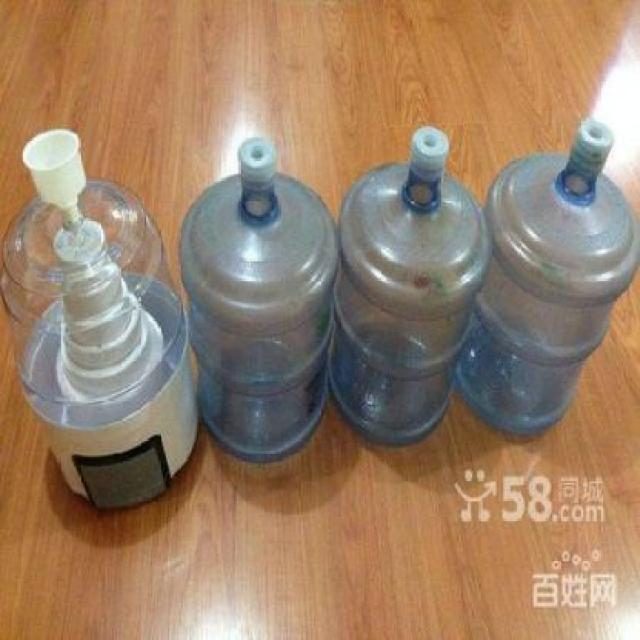coolerbottle: (454, 115, 640, 443), (174, 128, 343, 462), (331, 124, 498, 454)
